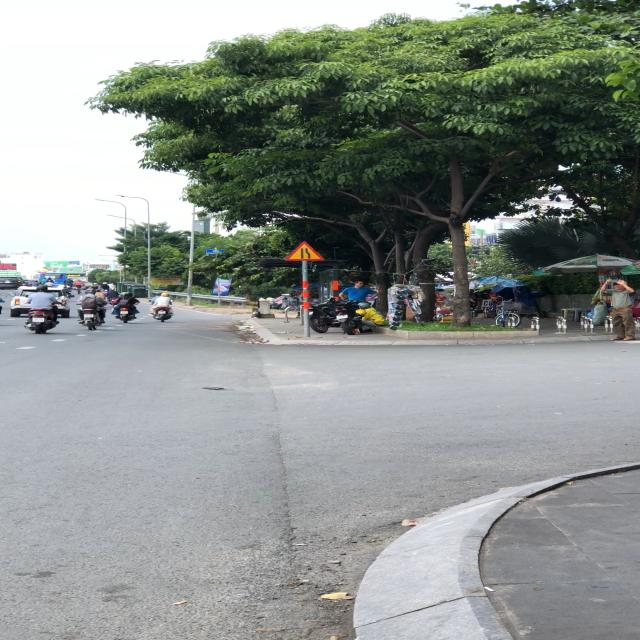Bien bao duong bi thu hep: (283, 240, 328, 262)
